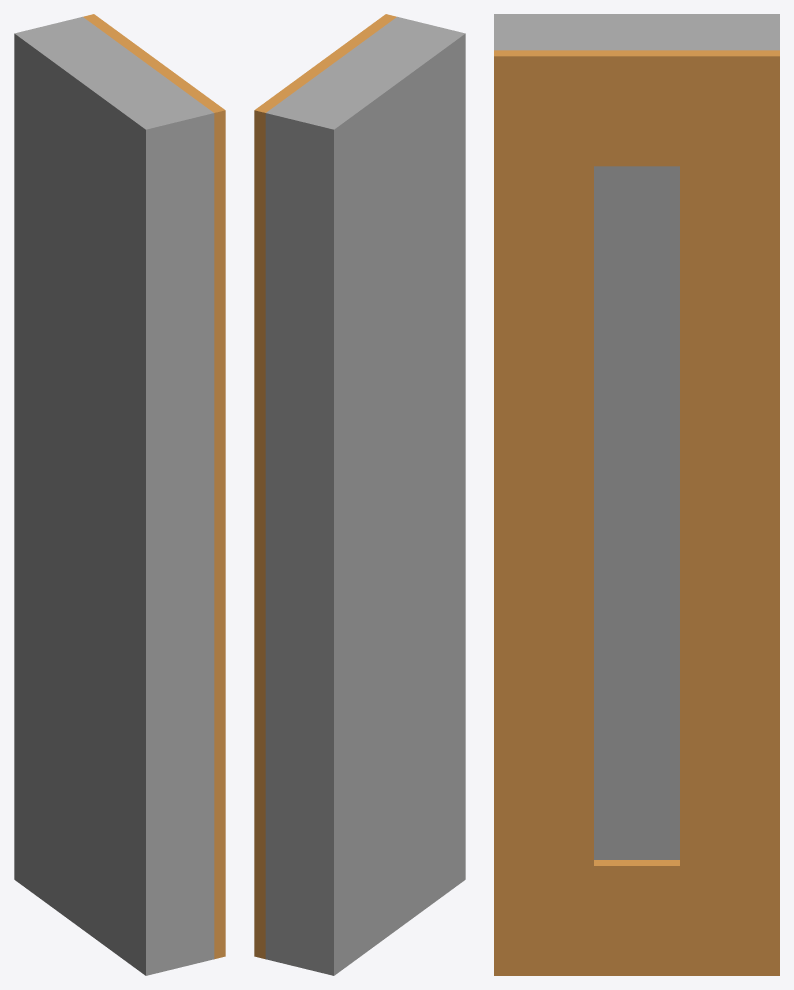
The model's file is elv_base.dae.
3 renders of one model, left to right at view 1: azimuth 30°, elevation 25°; view 2: azimuth 150°, elevation 25°; view 3: azimuth 270°, elevation 25°, orthographic. The views are drawn at different scales.
Parts seen in each view (by area): view 1: 5c1676af7aeda015ebcfc483 (×2); view 2: 5c1676af7aeda015ebcfc483 (×2); view 3: 5c1676af7aeda015ebcfc483 (×2).
Boxes of the visible parts, bbox=[...] form: 5c1676af7aeda015ebcfc483 (×2): bbox=[14, 14, 225, 975]; 5c1676af7aeda015ebcfc483 (×2): bbox=[254, 14, 465, 975]; 5c1676af7aeda015ebcfc483 (×2): bbox=[494, 14, 779, 975].
Bounding box in the file's own units: 0.07 × 0.2 × 0.71.
